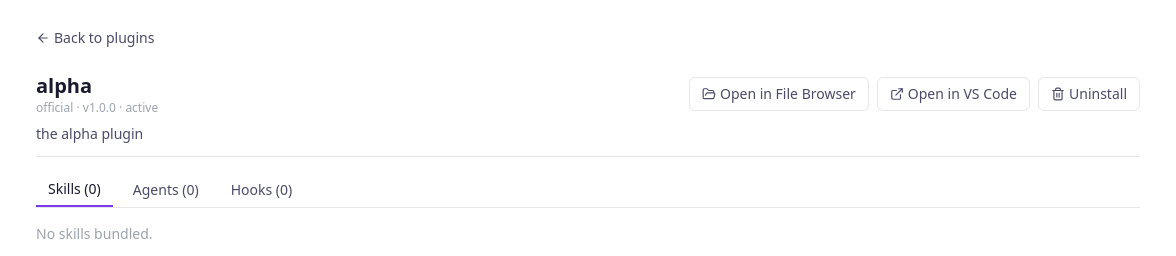
PluginsSection › back button click → returns to list (selection cleared)
Click the button with test id "plugin-back-btn": click(104, 38) [12,12,1164,48]
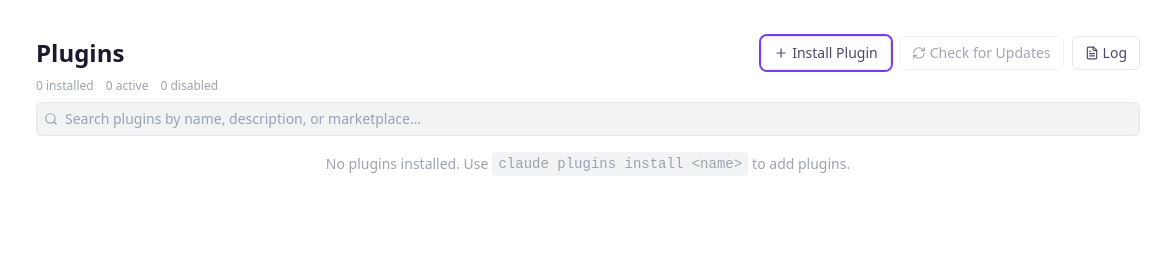
Now the element with test id "plugin-list-view" is shown
